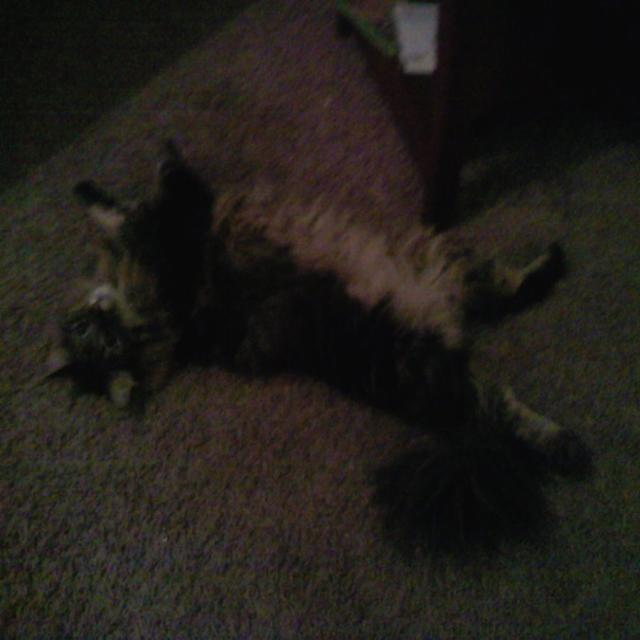Cat: (37, 126, 595, 566)
